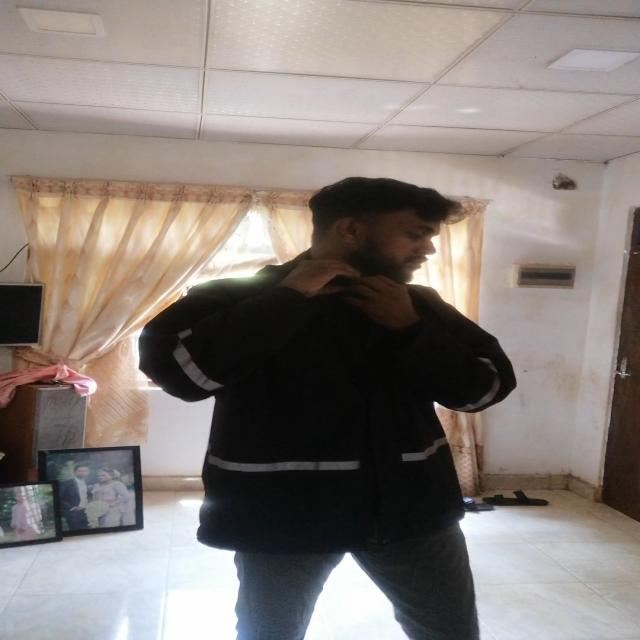Jacket_Wearer: (130, 254, 523, 542)
Person: (150, 168, 524, 640)
